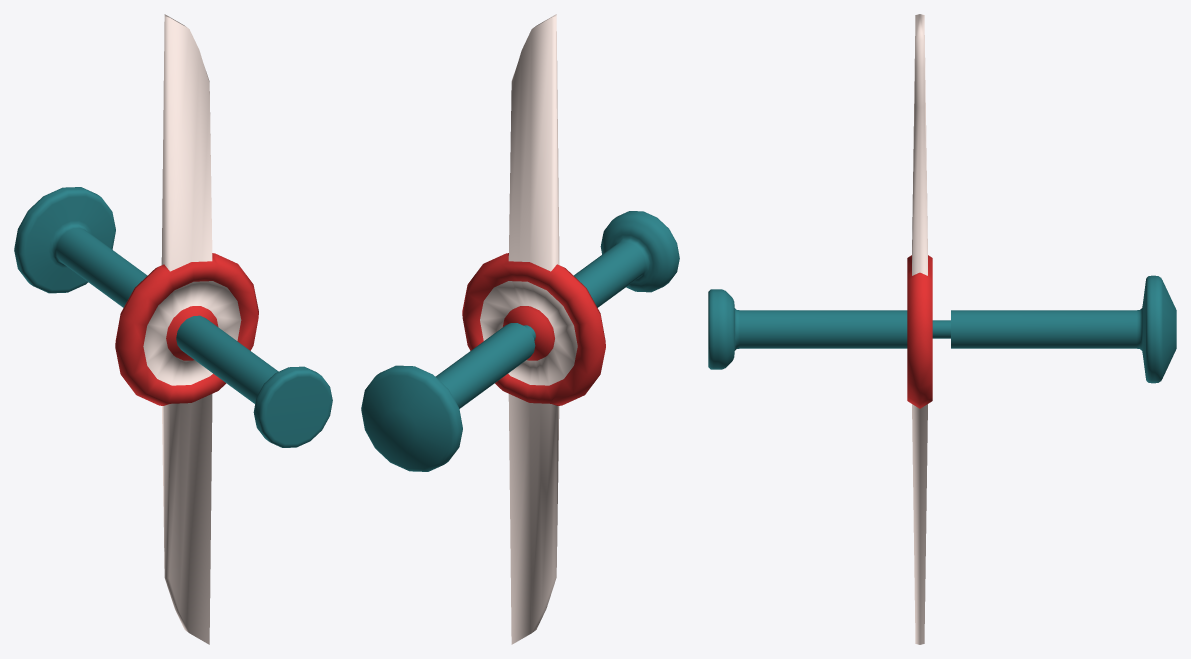
Rendered from Cutter7.fbx.
3 renders of one model, left to right at view 1: azimuth 30°, elevation 25°; view 2: azimuth 150°, elevation 25°; view 3: azimuth 270°, elevation 25°, orthographic. The views are drawn at different scales.
Parts seen in each view (by area): view 1: Cylinder.015, Cylinder.014; view 2: Cylinder.015, Cylinder.014; view 3: Cylinder.014, Cylinder.015.
Part boxes in pixels (x1,y1,x2,y2): Cylinder.015: (115,14,258,644); Cylinder.014: (14,187,332,447); Cylinder.015: (462,14,605,644); Cylinder.014: (361,211,679,471); Cylinder.014: (708,275,1176,383); Cylinder.015: (907,14,932,644).
Bounding box in the file's own units: 1.71 × 7.22 × 5.02.
